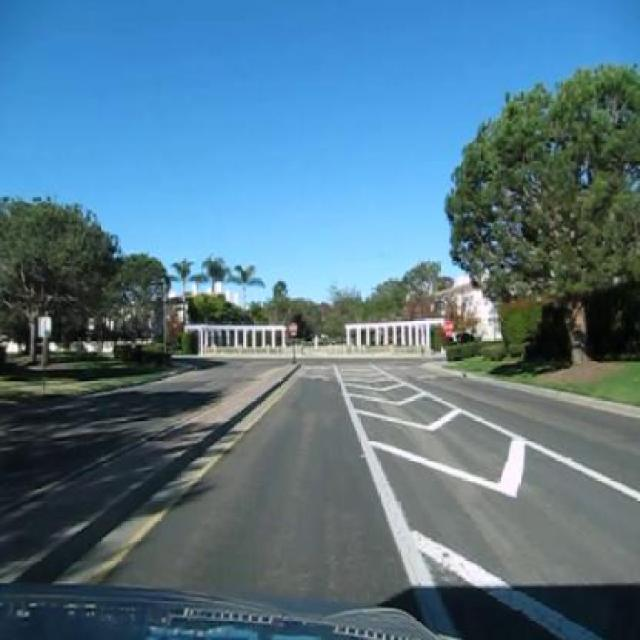stop: (443, 319, 453, 333), (288, 322, 298, 334)
